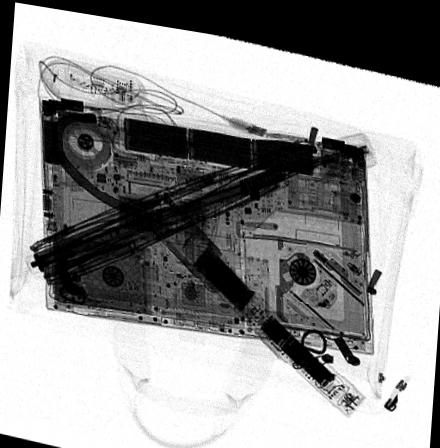Baton: (155, 201, 367, 408)
